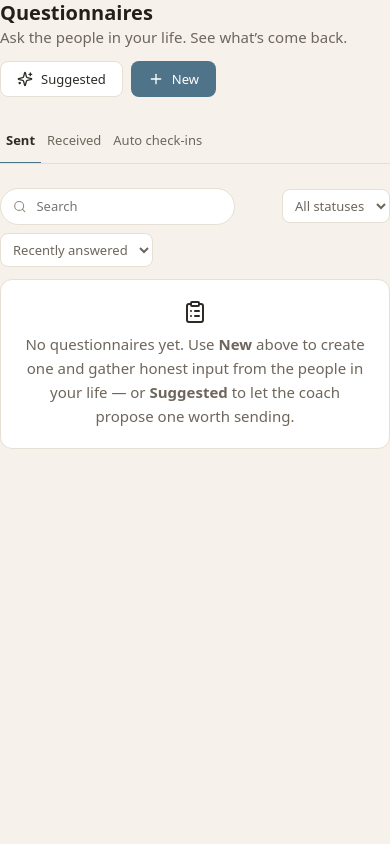
Test: Questionnaires › surfaces validation problems via Check (real validateQuestionnaire, 38 §3.4)
This screenshot has width=390, height=844.
Click the button "New": (173, 79) [131,61,216,97]
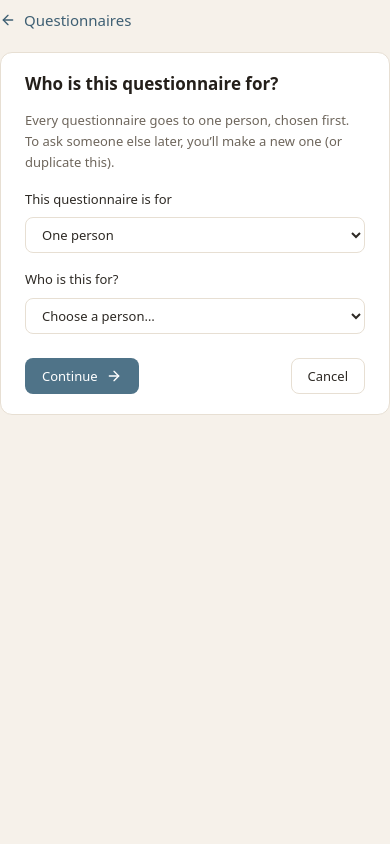
Select "Mara" in the dropdown labelled "Who is this for?": (195, 316) [25,298,365,334]
Click the button "Continue": (82, 376) [25,358,139,394]
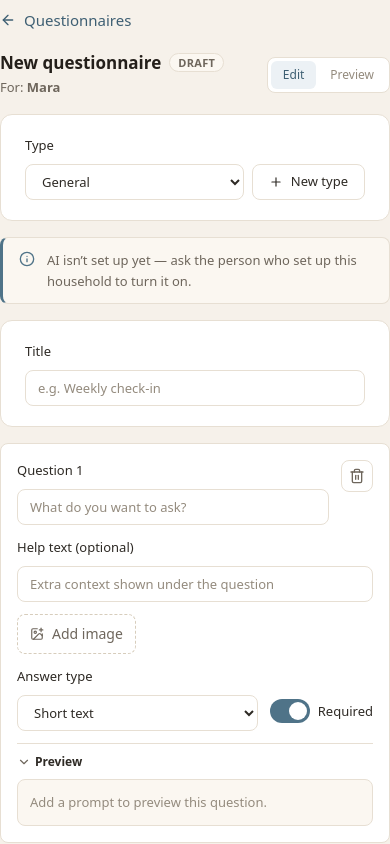
Now the field labelled "Title" is shown
In the field labelled "Title": (195, 388) [25,370,365,406], type "Q"
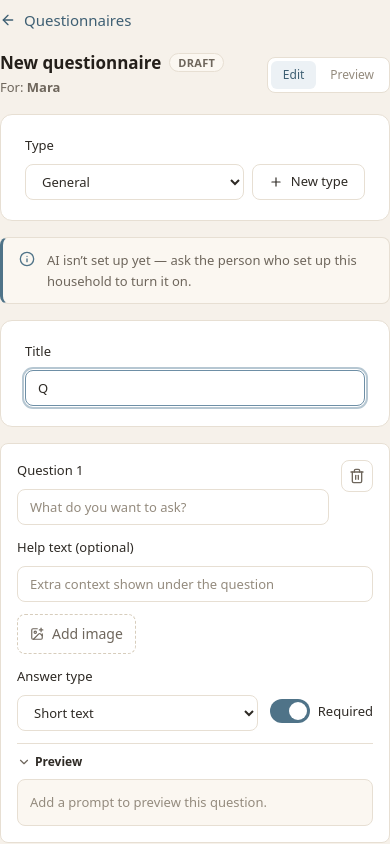
In the field labelled "Question 1": (173, 507) [17,489,329,525], type "Pick one"
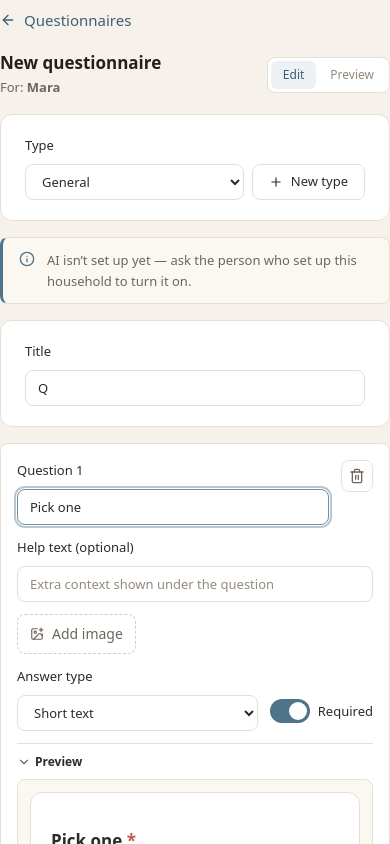
Select "Single choice" in the dropdown labelled "Answer type": (137, 713) [17,695,258,731]
(page scrolled)
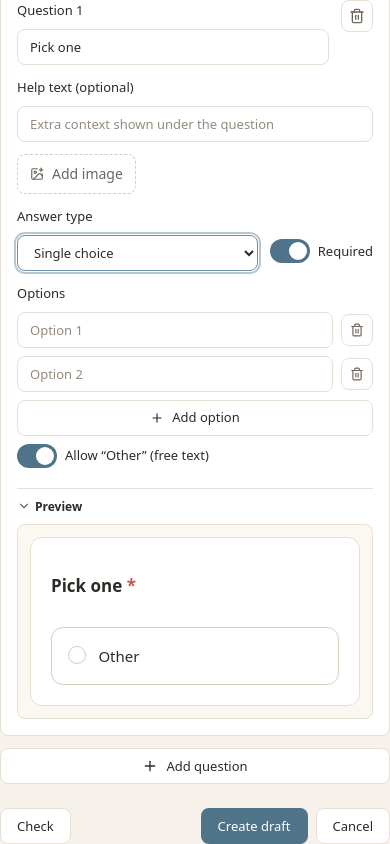
Click the button "Check": (35, 826) [0,808,71,843]
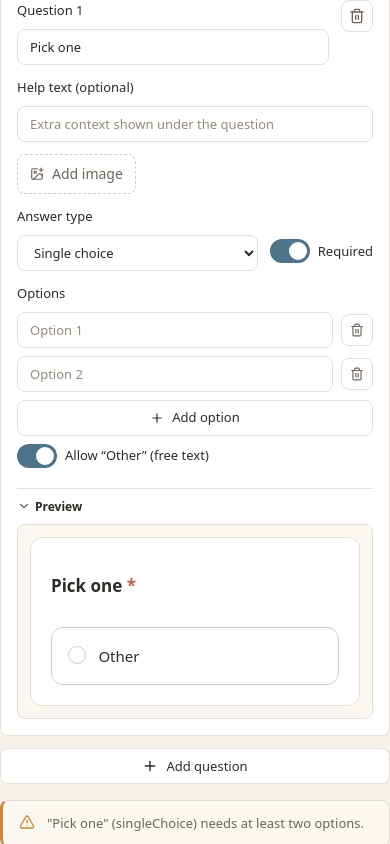
Now the text "\"Pick one\" (singleChoice) needs at least two options." is shown, box [47,813,364,834]
